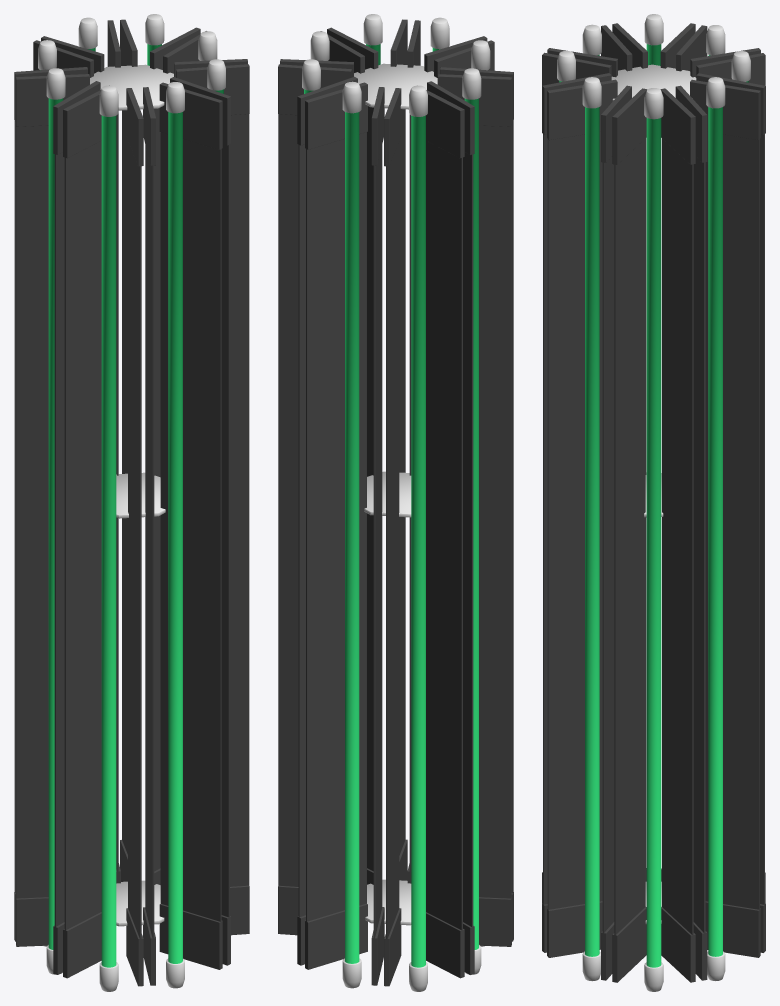
The model's file is Neon_Circular_001.fbx.
3 renders of one model, left to right at view 1: azimuth 30°, elevation 25°; view 2: azimuth 150°, elevation 25°; view 3: azimuth 270°, elevation 25°, orthographic.
Parts seen in each view (by area): view 1: Neon_Circular_001; view 2: Neon_Circular_001; view 3: Neon_Circular_001.
Boxes of the visible parts, box(x1,y1,x2,y2) form: Neon_Circular_001: box(14, 14, 249, 991); Neon_Circular_001: box(278, 14, 513, 991); Neon_Circular_001: box(542, 14, 765, 991).
Bounding box in the file's own units: 0.4585 × 2.03 × 0.4583.
